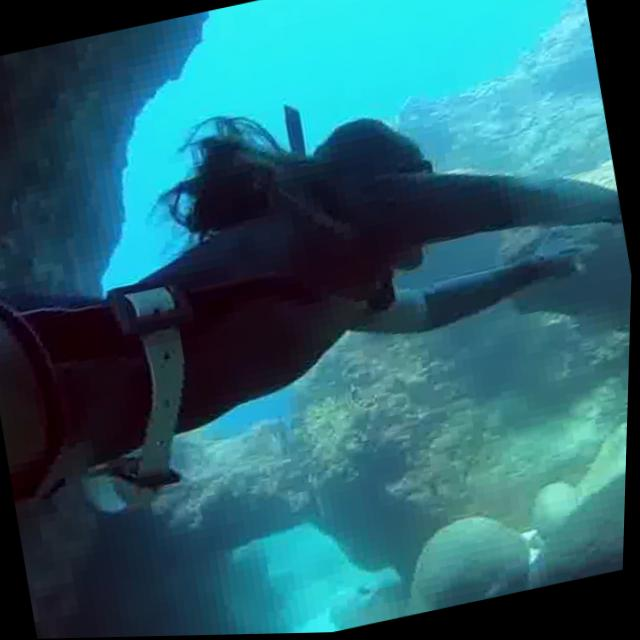human: (0, 37, 639, 640)
